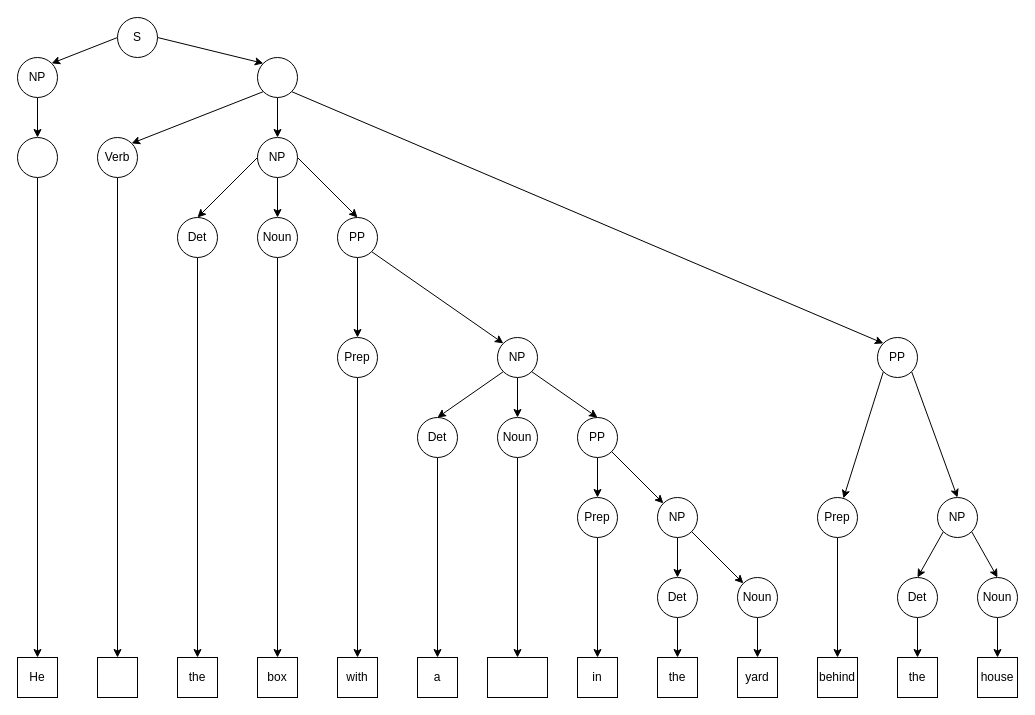
Some shapes in this 1035 by 715 pixel diagram are drawn without their labels. The shapes that lost their labels are listed below. From the top down, each one's centre as x and y in pixels, then its label:
At (x=277, y=77): "VP".
At (x=37, y=157): "Pron".
At (x=117, y=677): "built".
At (x=517, y=677): "hammer".
